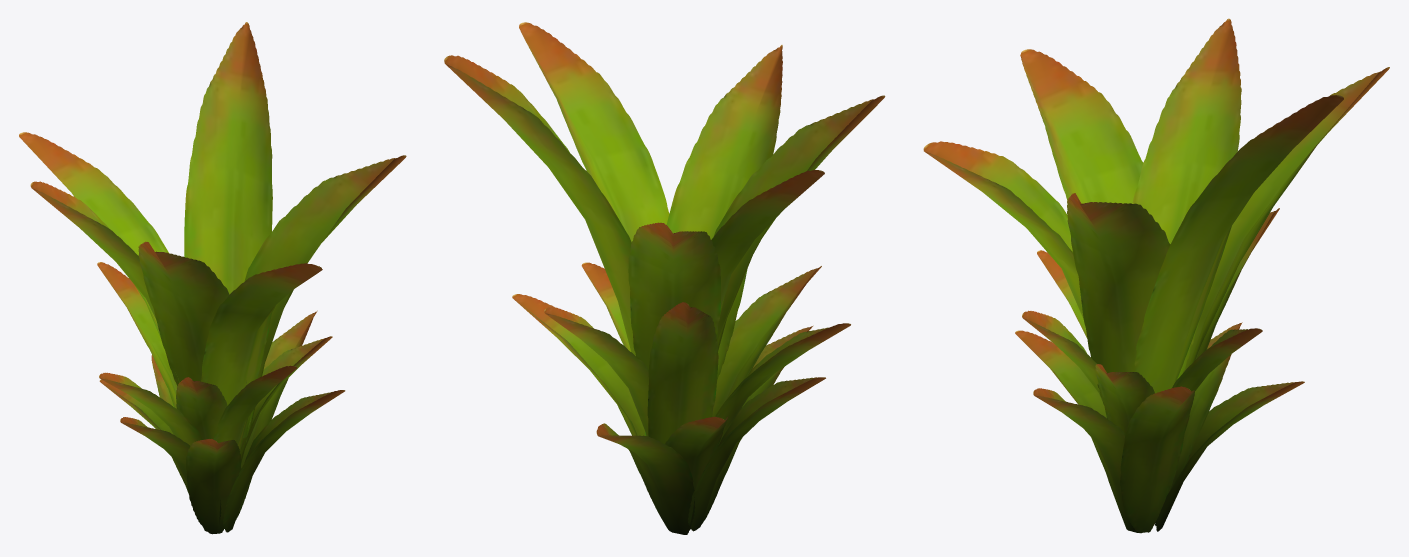
Rendered from sn_plant_1_big.glb.
3 views of the same model, side by side, from view 1: azimuth 30°, elevation 25°; view 2: azimuth 150°, elevation 25°; view 3: azimuth 270°, elevation 25° (orthographic). The views are drawn at different scales.
Visible parts, largest first — view 1: Plant_1_Big; view 2: Plant_1_Big; view 3: Plant_1_Big.
Part boxes in pixels (x1,y1,x2,y2): Plant_1_Big: (19, 22, 406, 534); Plant_1_Big: (444, 22, 885, 534); Plant_1_Big: (923, 18, 1389, 533).
Bounding box in the file's own units: 1.81 × 2.35 × 1.95.
Materials: 1 (1 with a texture image).
